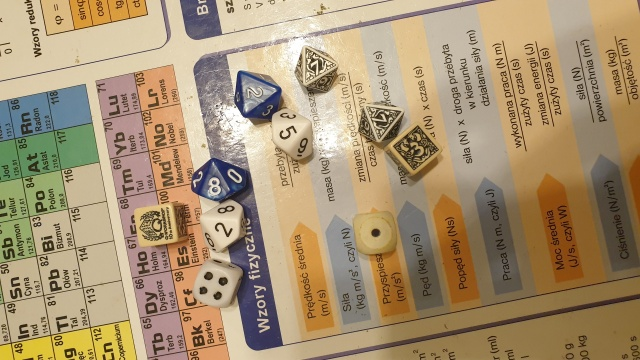d10-2: (197, 200, 248, 252), (232, 67, 280, 122)
d10-5: (268, 104, 316, 166)
d10-8: (189, 155, 250, 203)
d6-1: (353, 211, 398, 255)
d6-4: (189, 260, 244, 310)
d6p-3: (387, 121, 441, 179)
d6p-6: (132, 204, 189, 247)
d8p-7: (294, 43, 339, 96), (355, 97, 403, 145)
